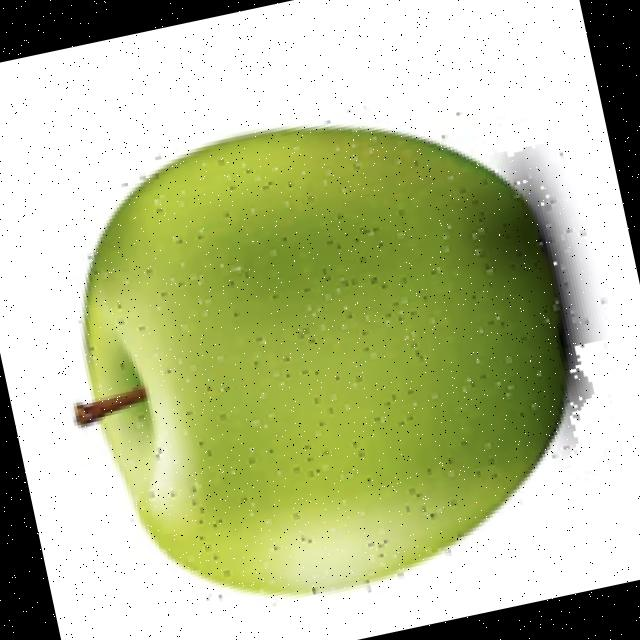apple: (67, 118, 608, 609)
